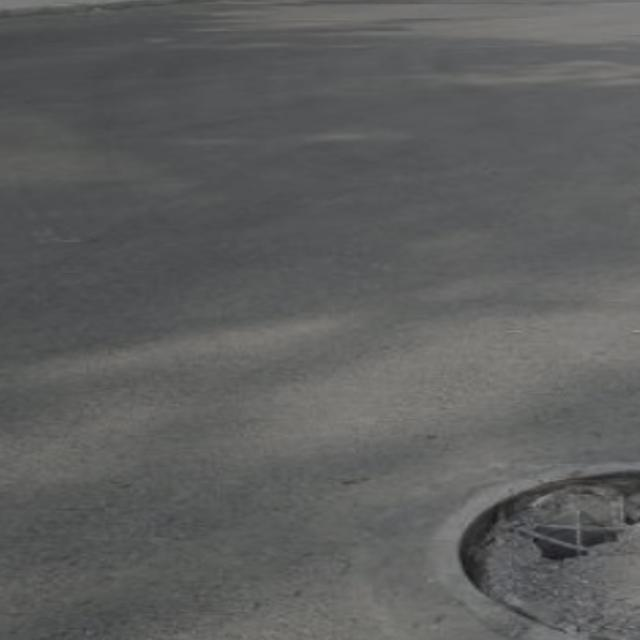broke: (432, 458, 640, 640)
